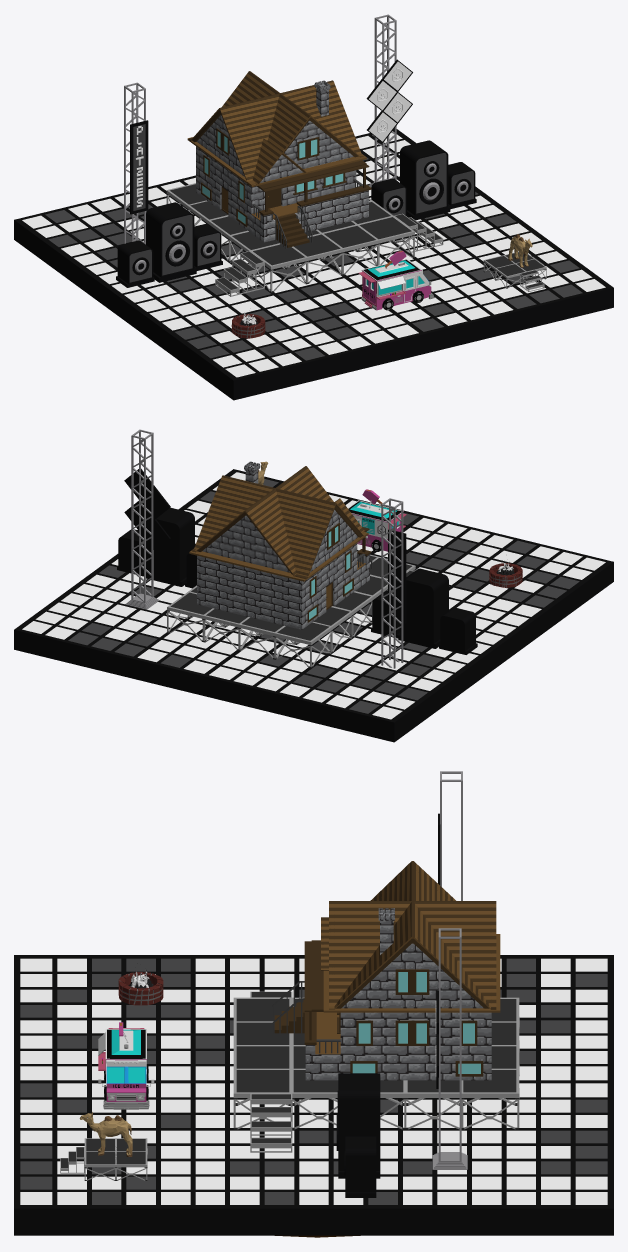
3 views of the same model, one above another, from view 1: azimuth 30°, elevation 25°; view 2: azimuth 150°, elevation 25°; view 3: azimuth 270°, elevation 25° (orthographic). The views are drawn at different scales.
Visible parts, largest first — view 1: Cube.008, Cube.586, VEHICLES_ICE_CREAM_TRUCK, OBJRANDOM_CAMPFIRE; view 2: Cube.008, Cube.586, VEHICLES_ICE_CREAM_TRUCK, OBJRANDOM_CAMPFIRE; view 3: Cube.008, Cube.586, VEHICLES_ICE_CREAM_TRUCK, OBJRANDOM_CAMPFIRE, ANIMAL_CAMELLO.
Part boxes in pixels (bbox=[...]): Cube.008: bbox=[14, 14, 613, 400]; Cube.586: bbox=[187, 71, 371, 248]; VEHICLES_ICE_CREAM_TRUCK: bbox=[358, 250, 434, 310]; OBJRANDOM_CAMPFIRE: bbox=[231, 312, 265, 338]; Cube.008: bbox=[14, 429, 613, 742]; Cube.586: bbox=[189, 461, 372, 629]; VEHICLES_ICE_CREAM_TRUCK: bbox=[348, 489, 406, 551]; OBJRANDOM_CAMPFIRE: bbox=[489, 562, 522, 587]; Cube.008: bbox=[14, 771, 613, 1235]; Cube.586: bbox=[272, 861, 500, 1080]; VEHICLES_ICE_CREAM_TRUCK: bbox=[98, 1022, 154, 1109]; OBJRANDOM_CAMPFIRE: bbox=[118, 963, 163, 1005]; ANIMAL_CAMELLO: bbox=[79, 1112, 132, 1156].
Bounding box in the file's own units: 4000 × 2038 × 4000.
46 materials, 2 textured.
